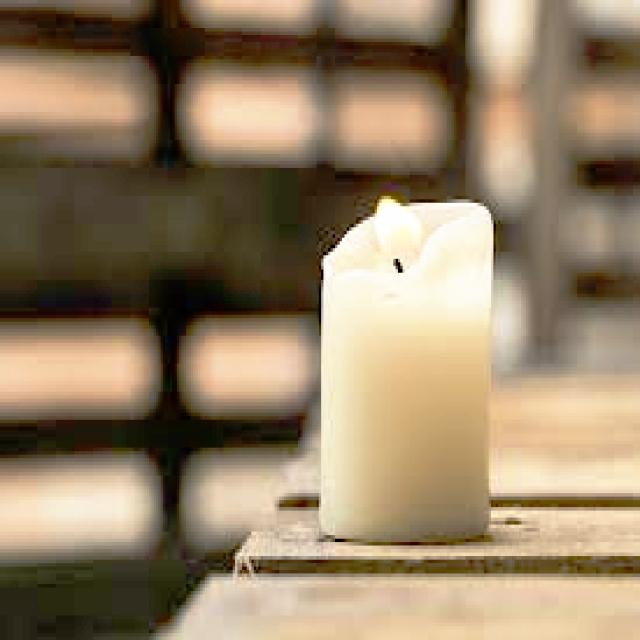api: (364, 183, 427, 274)
